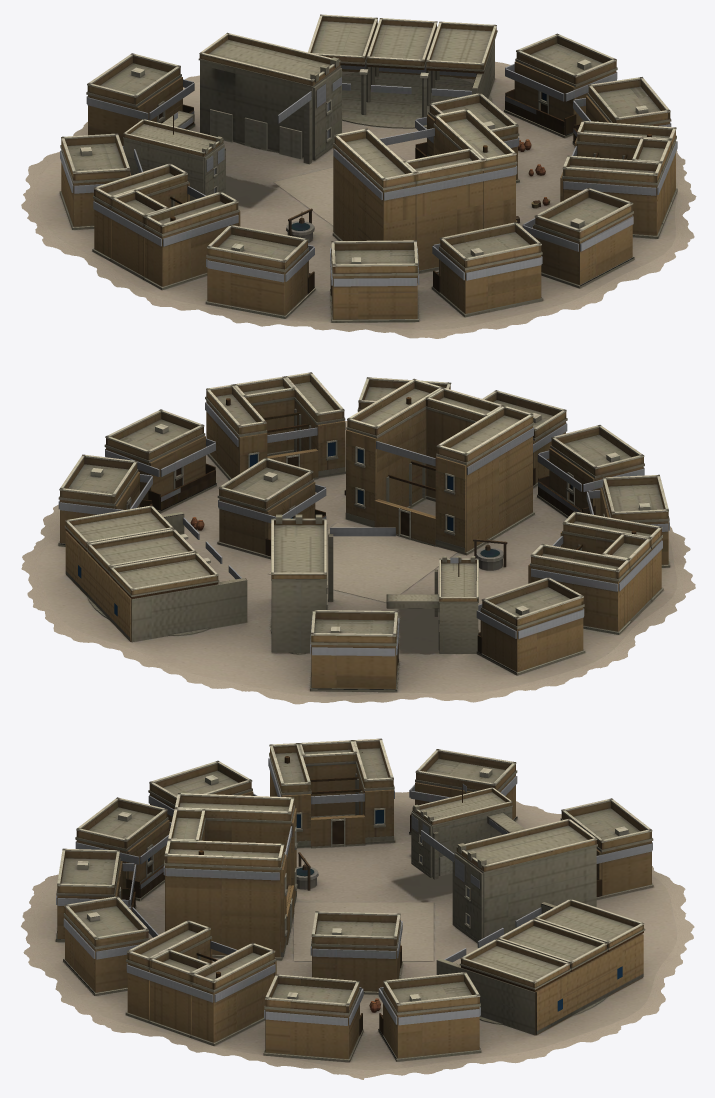
Rendered from bronze-town-medium-a-israelite-1891f0d2.glb.
3 views of the same model, one above another, from view 1: azimuth 30°, elevation 25°; view 2: azimuth 150°, elevation 25°; view 3: azimuth 270°, elevation 25° (orthographic).
Visible parts, largest first — view 1: LOD0; view 2: LOD0; view 3: LOD0.
Part boxes in pixels (x1,y1,x2,y2): LOD0: (21, 14, 696, 338); LOD0: (21, 372, 695, 704); LOD0: (21, 738, 694, 1079).
Size of what is drawn, in the model's own units: 5.99 by 0.9867 by 5.91.
Materials: 3 (3 with a texture image).
